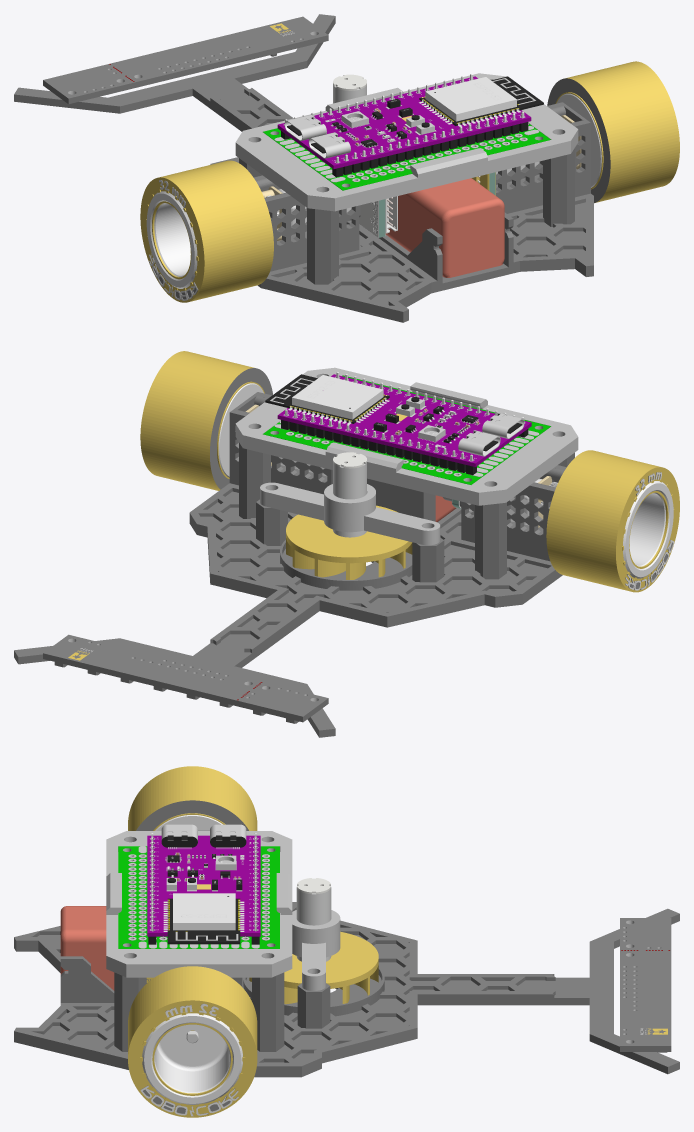
The model's file is Aspirador_de_pista.glb.
3 views of the same model, one above another, from view 1: azimuth 30°, elevation 25°; view 2: azimuth 150°, elevation 25°; view 3: azimuth 270°, elevation 25° (orthographic).
Visible parts, largest first — view 1: Node7, Node24, Node25, Node68, Node38, Node16, Node54, Node15, Node27, Node14, Node13, Node8 (+4 smaller); view 2: Node7, Node24, Node25, Node38, Node16, Node54, Node15, Node27, Node14, Node13, Node3, Node28 (+2 smaller); view 3: Node7, Node24, Node25, Node54, Node38, Node16, Node14, Node15, Node27, Node68, Node8, Node13 (+4 smaller).
Part boxes in pixels (x1,y1,x2,y2): Node7: (14,14,593,322); Node24: (140,23,679,302); Node25: (235,73,578,211); Node68: (385,178,504,277); Node38: (43,16,328,98); Node16: (277,76,531,169); Node54: (146,93,601,288); Node15: (285,74,524,162); Node27: (281,76,543,177); Node14: (263,124,550,190); Node13: (149,78,610,300); Node8: (270,123,543,187); Node7: (14,392,574,737); Node24: (68,351,679,660); Node25: (235,367,578,545); Node38: (43,634,328,723); Node16: (277,374,531,466); Node54: (218,383,673,578); Node15: (285,372,524,460); Node27: (265,374,528,474); Node14: (263,375,550,484); Node13: (210,368,673,589); Node3: (283,376,525,461); Node28: (458,412,524,456); Node7: (14,830,679,1077); Node24: (128,766,667,1117); Node25: (106,831,340,990); Node54: (142,815,242,1104); Node38: (620,918,671,1052); Node16: (147,835,260,936); Node14: (118,846,279,948); Node15: (151,833,256,931); Node27: (148,835,259,944); Node68: (60,906,114,990); Node8: (123,846,275,948); Node13: (136,800,248,1115).
Bounding box in the file's own units: 138 × 34.7 × 165.
